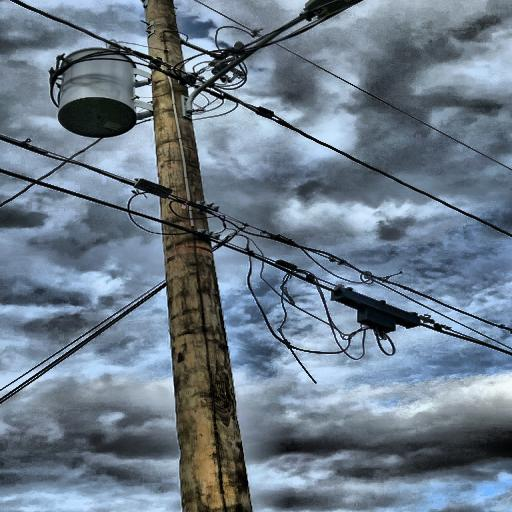pole: (138, 0, 290, 512)
street light: (175, 0, 365, 123)
transformer: (54, 46, 139, 140)
